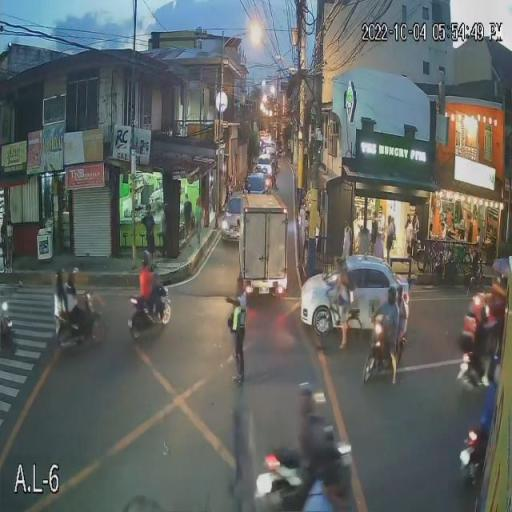helmet: (298, 381, 314, 394), (386, 284, 398, 297), (141, 258, 152, 270)
motorcycle: (253, 438, 354, 512), (455, 291, 500, 387), (51, 289, 108, 353), (361, 309, 408, 385), (126, 283, 172, 341)
rider: (296, 382, 346, 488), (468, 270, 502, 372), (374, 285, 408, 375), (54, 268, 84, 330), (138, 260, 163, 322)
